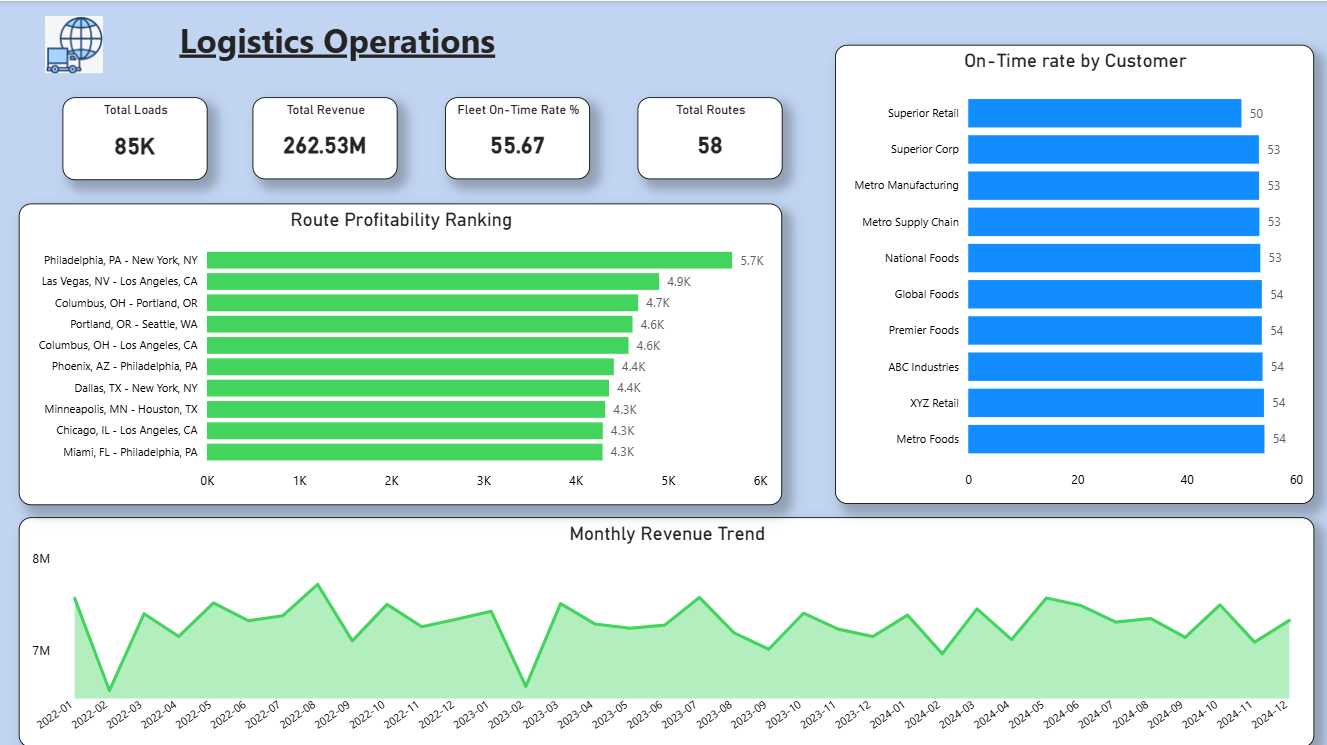

Layout of this report page (visuals, bound fields, positions):
{"tool":"powerbi","page":{"name":"Operations Overview","canvas":[1280,720],"ordinal":0},"visuals":[{"type":"textbox","box":[17.8,11,570.8,70],"z":0},{"type":"card","title":"Total Loads","fields":{"Values":["Sum(Q6.total_loads)"]},"box":[60.4,93.3,140,80],"z":1000},{"type":"card","title":"Total Revenue","fields":{"Values":["Sum(Q6.total_revenue)"]},"box":[244.3,93.3,140,79.6],"z":2000},{"type":"card","title":"Fleet On-Time Rate %","fields":{"Values":["Avg(Q1.on_time_rate_pct)"]},"box":[429.5,93.3,140,79.6],"z":3000},{"type":"card","title":"Total Routes","fields":{"Values":["CountNonNull(Q2.route_id)"]},"box":[614.8,93.3,140,79.6],"z":4000},{"type":"areaChart","title":"Monthly Revenue Trend","fields":{"Category":["Q6.year_month"],"Y":["Sum(Q6.total_revenue)"]},"box":[17.8,498.1,1250.1,222.3],"z":5000},{"type":"barChart","title":"On-Time rate by Customer","fields":{"Category":["Q3.customer_name"],"Y":["Sum(Q3.on_time_rate_pct)"]},"box":[805.5,42.5,462.4,443.2],"z":6000},{"type":"barChart","title":"Route Profitability Ranking","fields":{"Category":["Q2.route_name"],"Y":["Sum(Q2.revenue_per_mile)"]},"box":[17.8,194.9,736.9,290.9],"z":7000},{"type":"image","box":[43.9,12.3,56.3,60.4],"z":8000}]}

Visuals, with their boxes in screenshot pixels (x1, y1, x2, y2), scaled from the page's 1280x720 canvas onto the 1327x745 screenshot:
textbox: <box>18,11,610,84</box>
"Total Loads" card: <box>63,97,208,179</box>
"Total Revenue" card: <box>253,97,398,179</box>
"Fleet On-Time Rate %" card: <box>445,97,590,179</box>
"Total Routes" card: <box>637,97,783,179</box>
"Monthly Revenue Trend" areaChart: <box>18,515,1314,744</box>
"On-Time rate by Customer" barChart: <box>835,44,1314,503</box>
"Route Profitability Ranking" barChart: <box>18,202,782,503</box>
image: <box>46,13,104,75</box>
